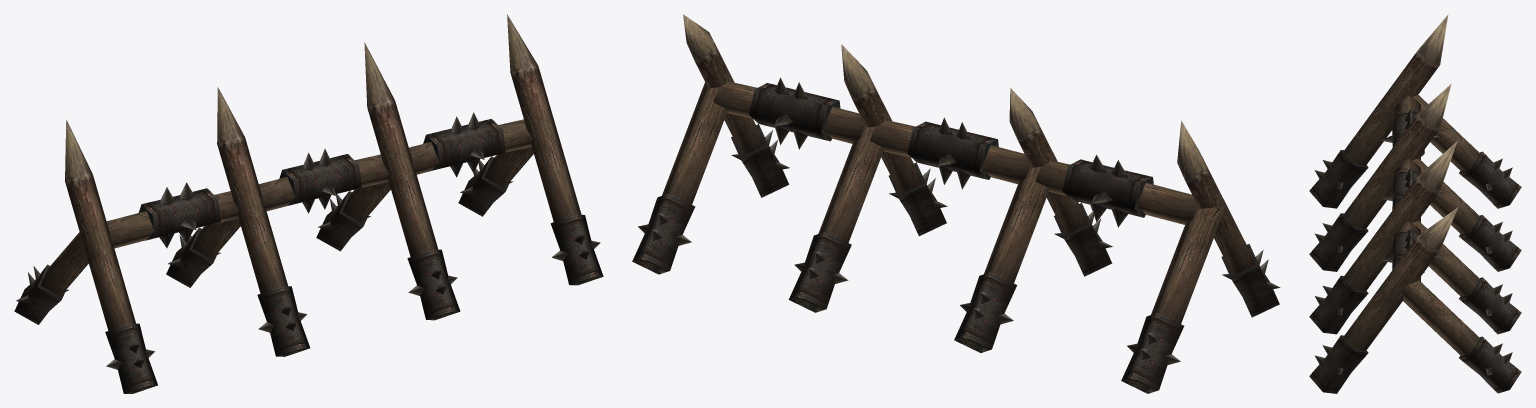
File: s7_fightpve_dici01.FBX
3 views of the same model, side by side, from view 1: azimuth 30°, elevation 25°; view 2: azimuth 150°, elevation 25°; view 3: azimuth 270°, elevation 25° (orthographic). The views are drawn at different scales.
Visible parts, largest first — view 1: Object04; view 2: Object04; view 3: Object04.
Boxes of the visible parts, x1,y1,x2,y2 form: Object04: [14, 14, 603, 393]; Object04: [632, 14, 1280, 393]; Object04: [1309, 14, 1521, 393].
Bounding box in the file's own units: 3.75 × 1.64 × 1.63.
